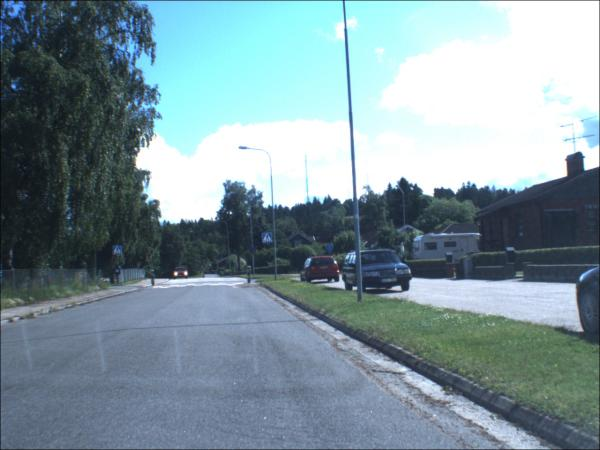NO_PARKING: (251, 248, 258, 256)
PEDESTRIAN_CROSSING: (264, 234, 274, 245), (114, 248, 124, 257)
